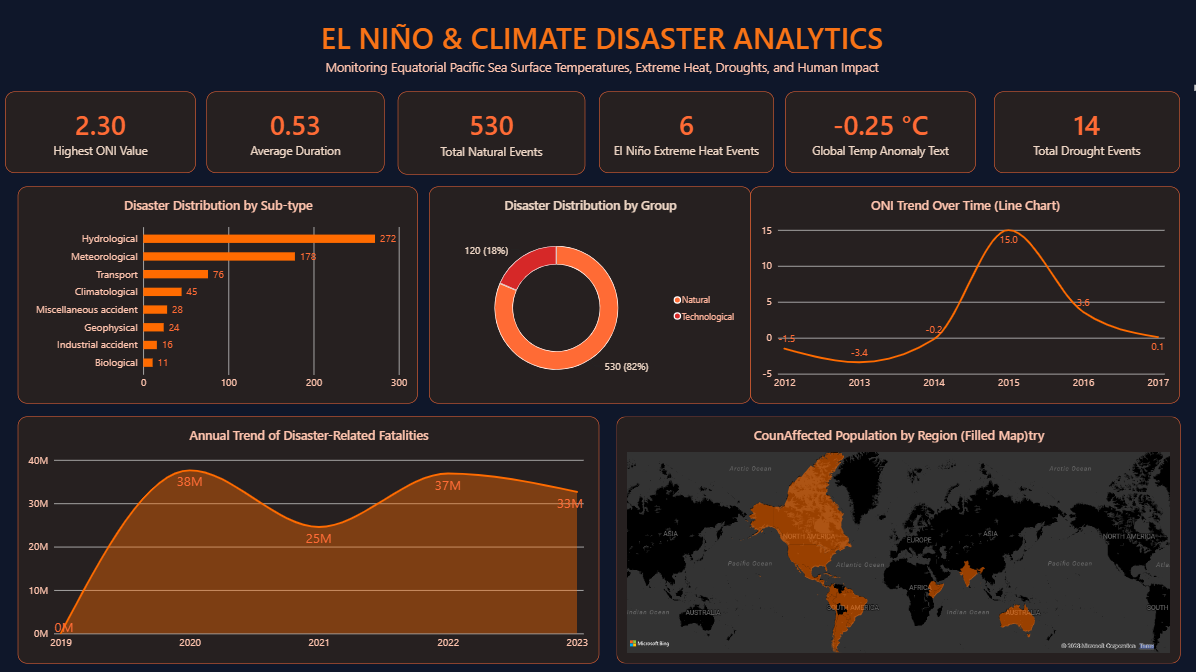

Layout of this report page (visuals, bound fields, positions):
{"tool":"powerbi","page":{"name":"EL NIÑO","canvas":[1920,1080],"ordinal":2},"visuals":[{"type":"card","fields":{"Values":["EM-DAT Data.Total Drought Events"]},"box":[1592.5,147.5,297.5,130],"z":0},{"type":"card","fields":{"Values":["EM-DAT Data.Average Duration"]},"box":[332.5,147.5,285,130],"z":1000},{"type":"card","fields":{"Values":["EM-DAT Data.Total Natural Events"]},"box":[637.5,147.5,300,132.5],"z":2000},{"type":"card","fields":{"Values":["EM-DAT Data.El Niño Extreme Heat Events"]},"box":[960,147.5,280,130],"z":3000},{"type":"card","fields":{"Values":["EM-DAT Data.Global Temp Anomaly Text"]},"box":[1257.5,147.5,305,130],"z":4000},{"type":"card","fields":{"Values":["EM-DAT Data.Average Temp Anomaly"]},"box":[10,147.5,305,130],"z":5000},{"type":"donutChart","title":"Disaster Distribution by Group ","fields":{"Category":["EM-DAT Data.Disaster Group"],"Y":["CountNonNull(EM-DAT Data.DisNo.)"]},"box":[687.5,300,515,347.5],"z":6000},{"type":"lineChart","title":"ONI Trend Over Time (Line Chart)","fields":{"Category":["Monthly Oceanic Nino Index (ONI) - Long.Year"],"Y":["Sum(Monthly Oceanic Nino Index (ONI) - Long.Value)"]},"box":[1202.5,300,687.5,347.5],"z":7000},{"type":"clusteredBarChart","title":"Disaster Distribution by Sub-type","fields":{"Category":["EM-DAT Data.Disaster Subgroup"],"Y":["CountNonNull(EM-DAT Data.Disaster Subtype)"]},"box":[30,300,640,347.5],"z":8000},{"type":"areaChart","title":"Annual Trend of Disaster-Related Fatalities","fields":{"Category":["EM-DAT Data.Start Year"],"Y":["Sum(EM-DAT Data.Total Affected)"]},"box":[30,667.5,930,395],"z":9000},{"type":"filledMap","title":"CounAffected Population by Region (Filled Map)try","fields":{"Category":["public_emdat_project.Country"]},"box":[987.5,667.5,902.5,395],"z":10000},{"type":"textbox","title":"EL NIÑO & CLIMATE DISASTER ANALYTICS","box":[10,30,1910,116.7],"z":11000}]}

Visuals, with their boxes in screenshot pixels (x1, y1, x2, y2), scaled from the page's 1920x1080 canvas onto the 1196x672 screenshot:
card - EM-DAT Data.Total Drought Events: rect(992, 92, 1177, 173)
card - EM-DAT Data.Average Duration: rect(207, 92, 385, 173)
card - EM-DAT Data.Total Natural Events: rect(397, 92, 584, 174)
card - EM-DAT Data.El Niño Extreme Heat Events: rect(598, 92, 772, 173)
card - EM-DAT Data.Global Temp Anomaly Text: rect(783, 92, 973, 173)
card - EM-DAT Data.Average Temp Anomaly: rect(6, 92, 196, 173)
"Disaster Distribution by Group " donutChart: rect(428, 187, 749, 403)
"ONI Trend Over Time (Line Chart)" lineChart: rect(749, 187, 1177, 403)
"Disaster Distribution by Sub-type" clusteredBarChart: rect(19, 187, 417, 403)
"Annual Trend of Disaster-Related Fatalities" areaChart: rect(19, 415, 598, 661)
"CounAffected Population by Region (Filled Map)try" filledMap: rect(615, 415, 1177, 661)
"EL NIÑO & CLIMATE DISASTER ANALYTICS" textbox: rect(6, 19, 1195, 91)
